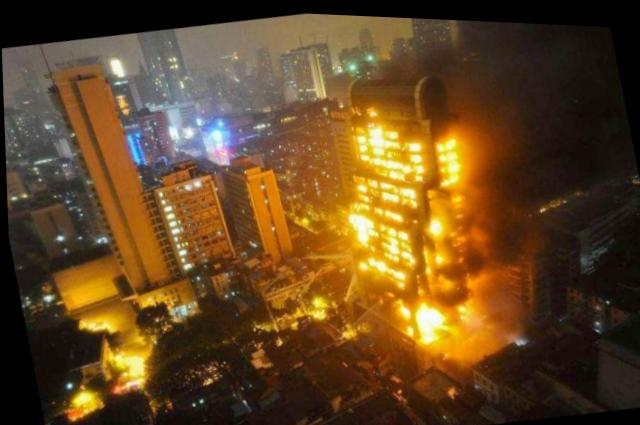fire: (327, 87, 497, 352)
